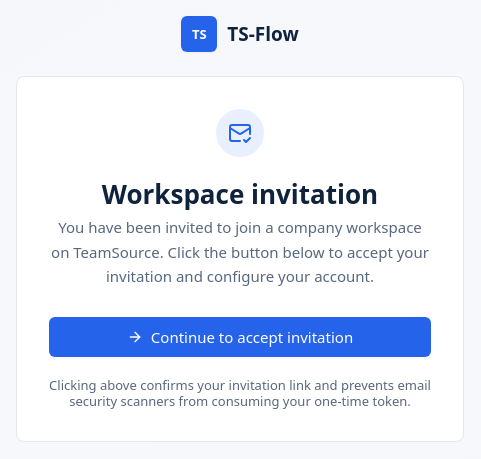
Test: Authentication & Invitation Flow Safeguards › AcceptInvitation page token_hash protection against email security scanners › handles verifyOtp errors gracefully without crashing or submitting password
Click the button "Continue to accept invitation" at {"x": 240, "y": 337}, box top-left (49, 317), bottom-right (431, 357)
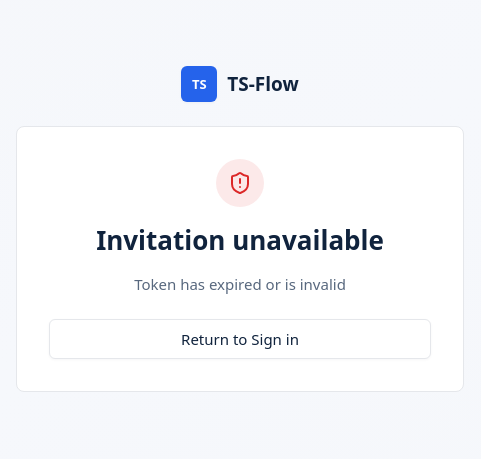
Expected: the text "Token has expired or is invalid" is shown, top-left (134, 274), bottom-right (346, 294)
